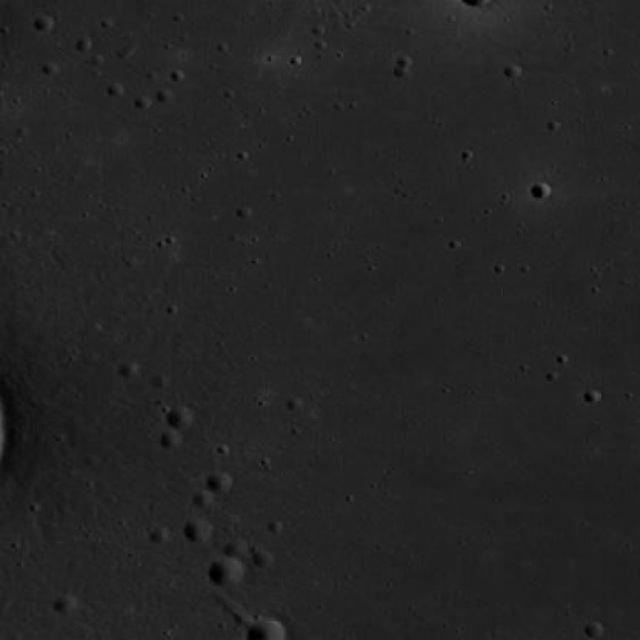crater: (208, 558, 246, 590), (183, 519, 214, 544), (166, 407, 194, 430), (224, 539, 250, 561), (207, 472, 233, 494), (118, 360, 140, 380), (53, 596, 76, 615), (531, 182, 554, 201), (160, 432, 182, 450), (254, 552, 274, 570), (148, 528, 170, 544), (586, 623, 606, 640), (32, 13, 52, 30), (192, 492, 212, 508), (150, 374, 168, 389)
